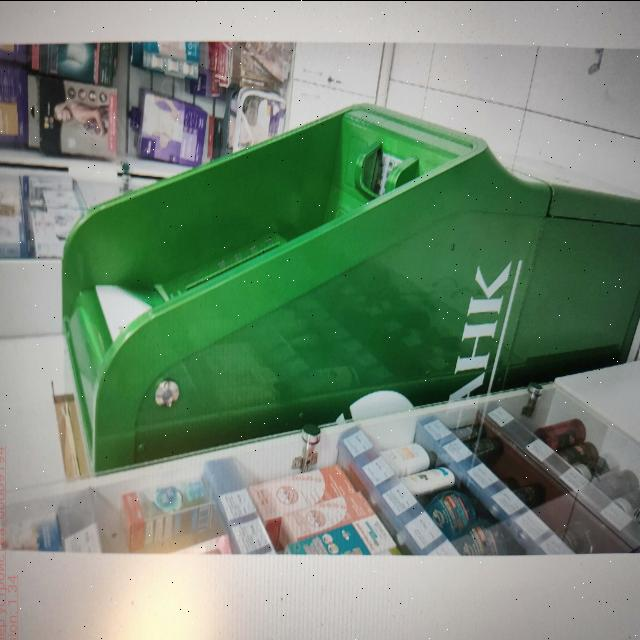bank: (58, 102, 640, 479)
